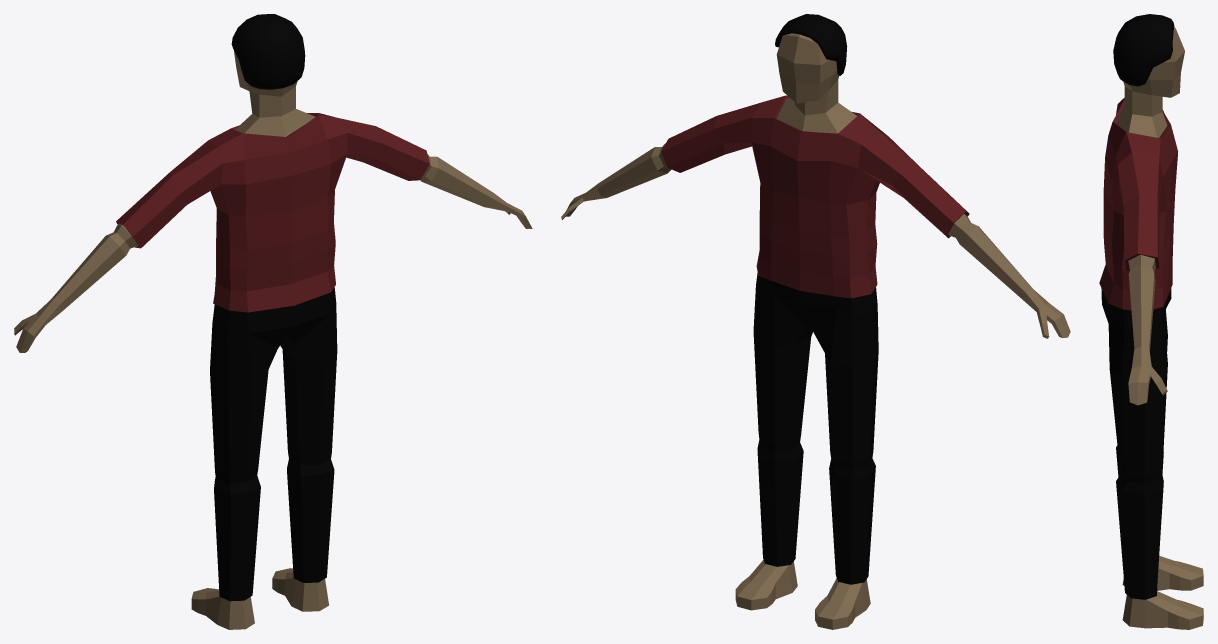
The model's file is Boy.fbx.
3 renders of one model, left to right at view 1: azimuth 30°, elevation 25°; view 2: azimuth 150°, elevation 25°; view 3: azimuth 270°, elevation 25°, orthographic.
Visible parts, largest first — view 1: T-shirt, pants, Bodey Boy, Boy's hair; view 2: T-shirt, pants, Bodey Boy, Boy's hair; view 3: pants, T-shirt, Bodey Boy, Boy's hair.
Boxes of the visible parts, box(x1,y1,x2,y2) form: T-shirt: box(116, 113, 429, 312); pants: box(210, 287, 337, 601); Bodey Boy: box(14, 51, 532, 629); Boy's hair: box(231, 14, 305, 89); T-shirt: box(661, 95, 969, 298); pants: box(753, 273, 878, 584); Bodey Boy: box(561, 33, 1070, 629); Boy's hair: box(775, 14, 847, 75); pants: box(1101, 288, 1171, 599); T-shirt: box(1099, 98, 1177, 310); Bodey Boy: box(1116, 27, 1203, 629); Boy's hair: box(1113, 14, 1174, 86).
Size of the model in its own units: 1393 by 1545 by 250.
